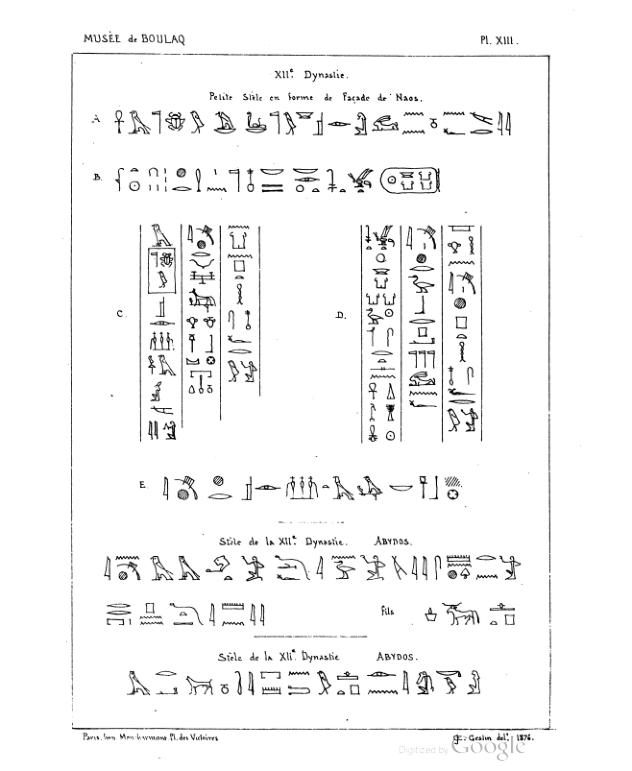circle: (379, 163, 444, 196)
